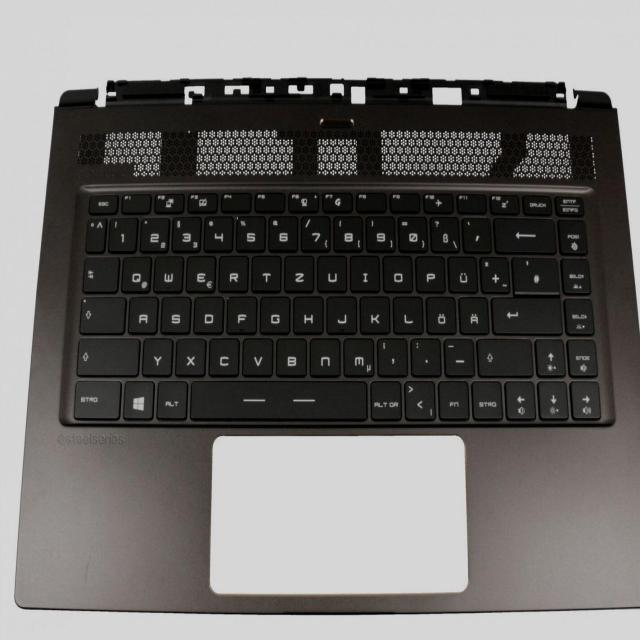0: (396, 213, 426, 250)
1: (106, 214, 136, 250)
2: (138, 214, 168, 250)
3: (169, 213, 200, 251)
4: (202, 212, 231, 249)
5: (233, 213, 264, 250)
6: (266, 213, 297, 250)
7: (299, 212, 329, 250)
8: (331, 212, 361, 250)
9: (363, 213, 394, 250)
a: (126, 292, 157, 332)
accent: (460, 213, 490, 250)
ae: (457, 292, 488, 332)
alt-left: (154, 376, 187, 418)
altgr-right: (368, 377, 401, 418)
b: (274, 335, 306, 376)
c: (206, 335, 239, 375)
caret: (84, 216, 105, 251)
comma: (374, 334, 406, 374)
d: (192, 292, 223, 332)
del: (492, 214, 555, 251)
e: (184, 252, 215, 291)
enter: (489, 292, 561, 332)
f: (225, 292, 256, 332)
g: (257, 292, 289, 332)
h: (291, 292, 322, 332)
hash: (509, 253, 559, 292)
i: (348, 251, 378, 289)
j: (325, 292, 356, 332)
k: (358, 292, 389, 332)
keyboard: (58, 176, 618, 432)
l: (391, 292, 421, 331)
less: (402, 378, 435, 419)
m: (341, 334, 373, 375)
minus: (441, 334, 473, 374)
n: (307, 334, 339, 375)
o: (381, 252, 412, 290)
oe: (424, 293, 455, 333)
p: (414, 252, 444, 291)
plus: (478, 253, 508, 291)
point: (408, 334, 439, 374)
q: (119, 252, 150, 291)
r: (217, 252, 248, 291)
s: (158, 292, 190, 332)
shift-left: (74, 333, 139, 375)
shift-lock: (77, 292, 124, 332)
shift-right: (475, 334, 532, 375)
space: (187, 377, 368, 420)
ss: (428, 213, 458, 250)
strg-left: (70, 376, 121, 418)
strg-right: (470, 377, 502, 418)
t: (249, 252, 280, 290)
tab: (80, 252, 118, 291)
u: (315, 251, 346, 290)
ue: (446, 252, 476, 291)
v: (240, 334, 272, 375)
w: (152, 252, 183, 291)
x: (173, 334, 205, 374)
y: (140, 334, 172, 375)
z: (282, 252, 313, 291)
